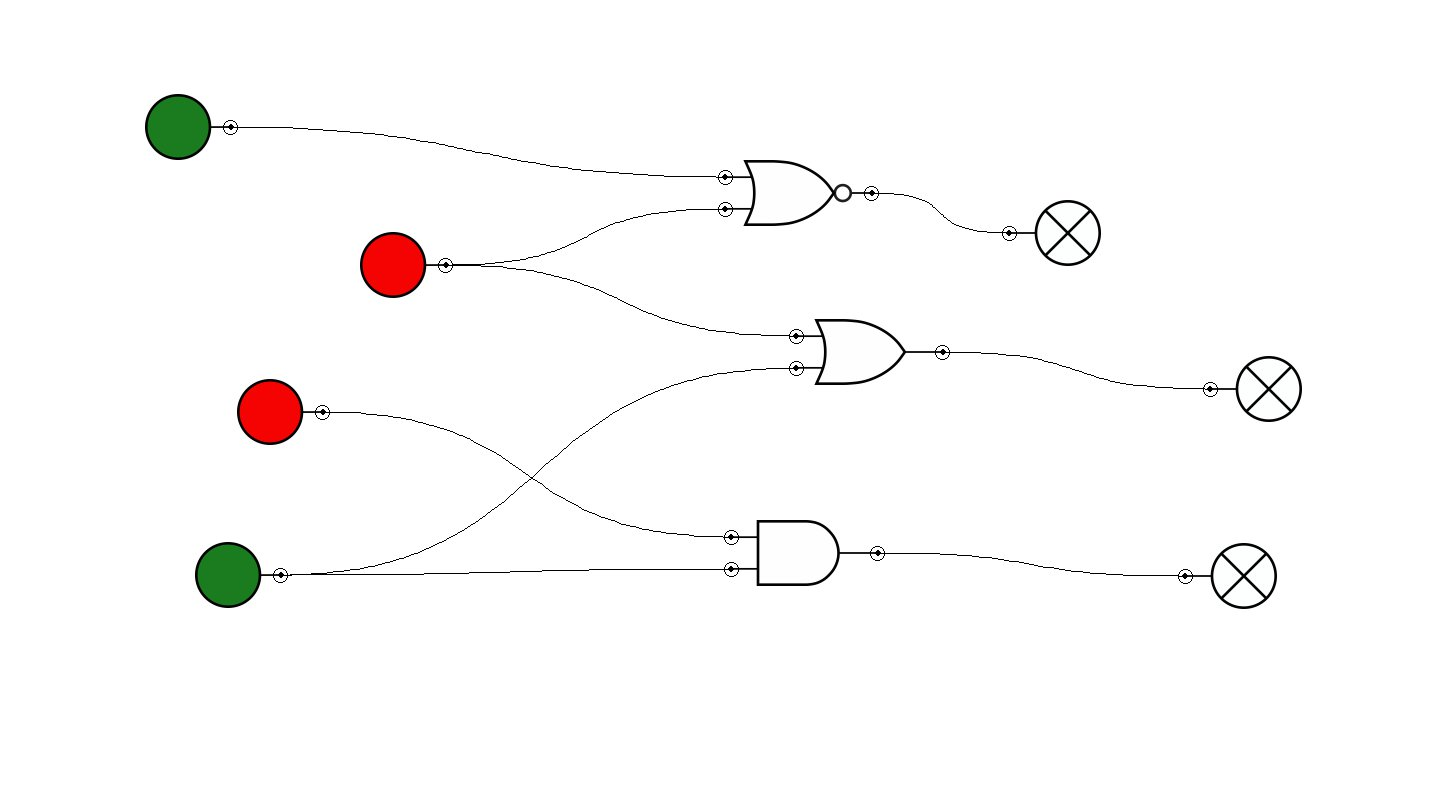and: (724, 520, 885, 586)
bulb: (1178, 543, 1277, 609), (1203, 356, 1302, 422), (1002, 200, 1101, 266)
nor: (718, 160, 879, 226)
or: (789, 319, 950, 385)
switch_False: (360, 232, 453, 298), (237, 379, 330, 445)
switch_True: (145, 94, 238, 160), (195, 542, 288, 608)
